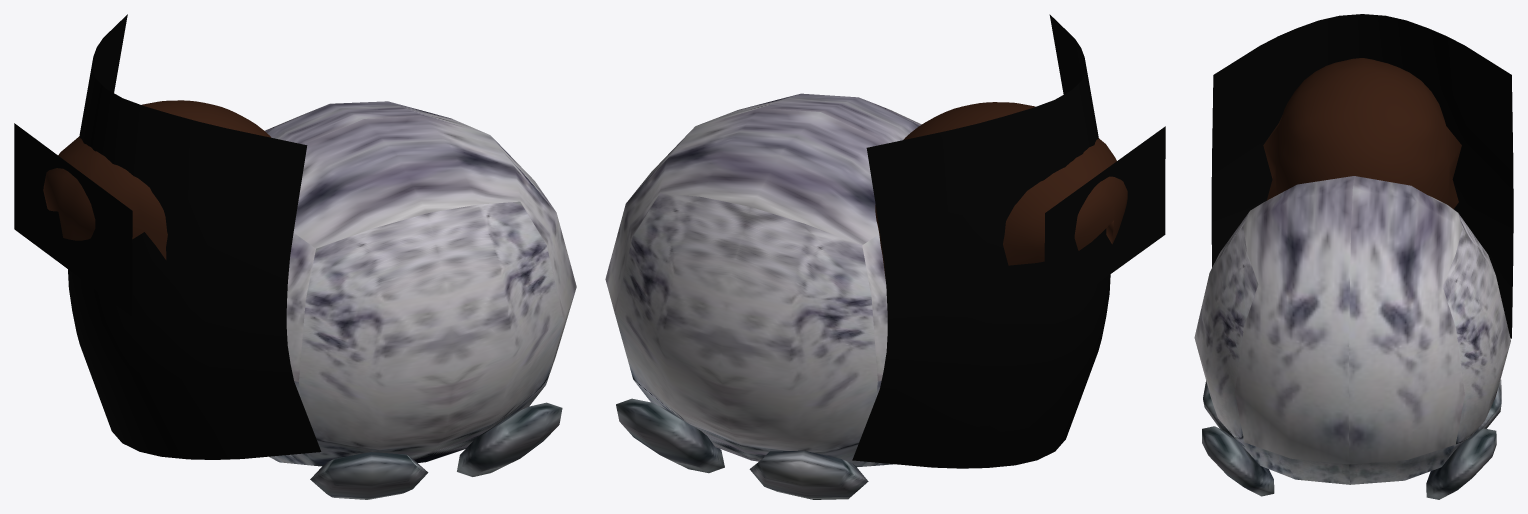
File: seal.gltf
3 renders of one model, left to right at view 1: azimuth 30°, elevation 25°; view 2: azimuth 150°, elevation 25°; view 3: azimuth 270°, elevation 25°, orthographic. The views are drawn at different scales.
Visible parts, largest first — view 1: Cube.001, Mask, Glass, Hair; view 2: Cube.001, Mask, Glass, Hair; view 3: Cube.001, Mask, Hair.
Boxes of the visible parts, x1,y1,x2,y2 form: Cube.001: (264,101,576,499); Mask: (68,14,321,459); Glass: (14,123,132,316); Hair: (43,100,270,259); Cube.001: (605,93,921,499); Mask: (852,14,1110,468); Glass: (1044,126,1165,321); Hair: (875,102,1127,278); Cube.001: (1194,176,1510,499); Mask: (1211,14,1513,338); Hair: (1263,58,1461,209).
Size of what is drawn, in the model's own units: 2.83 by 2.32 by 1.94.
Materials: 5 (5 with a texture image).
